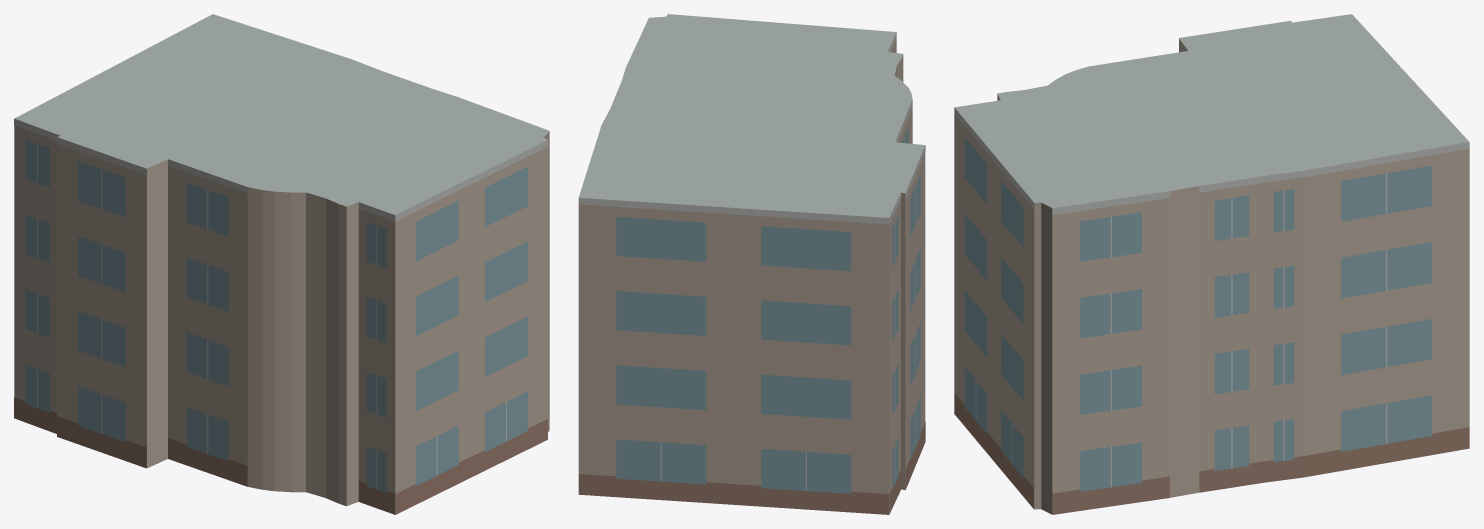
The model's file is survey-upis-32855609.glb.
The picture shows the model from 3 angles, left to right: view 1: azimuth 30°, elevation 25°; view 2: azimuth 150°, elevation 25°; view 3: azimuth 270°, elevation 25°; orthographic projection. The views are drawn at different scales.
Parts seen in each view (by area): view 1: survey-upis-32855609.tmp; view 2: survey-upis-32855609.tmp; view 3: survey-upis-32855609.tmp.
Boxes of the visible parts, bbox=[...] form: survey-upis-32855609.tmp: bbox=[14, 14, 549, 514]; survey-upis-32855609.tmp: bbox=[578, 14, 925, 514]; survey-upis-32855609.tmp: bbox=[954, 14, 1469, 514].
Bounding box in the file's own units: 14.95 × 11 × 16.76.
